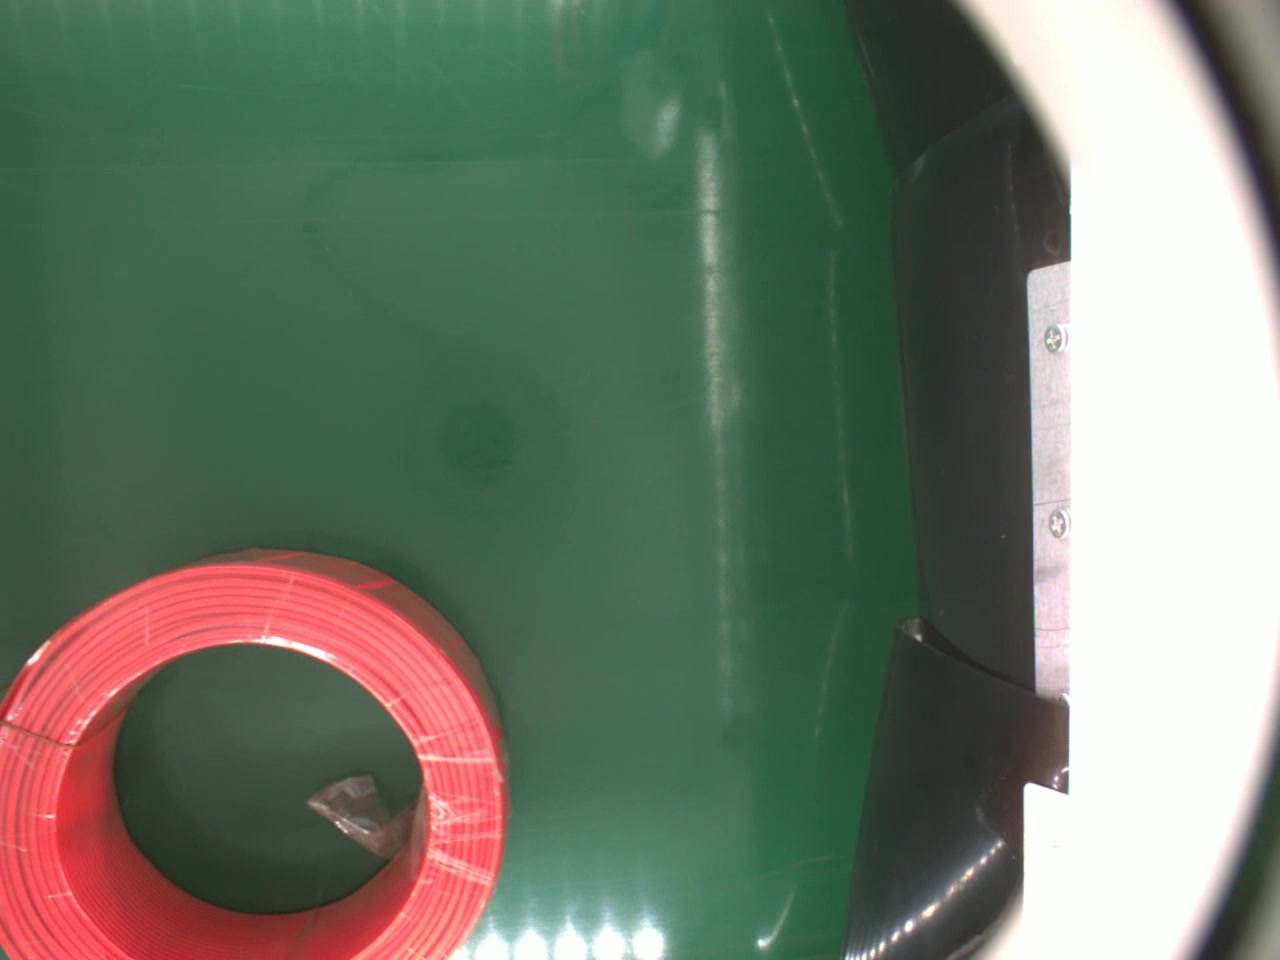red: (1, 547, 511, 960)
